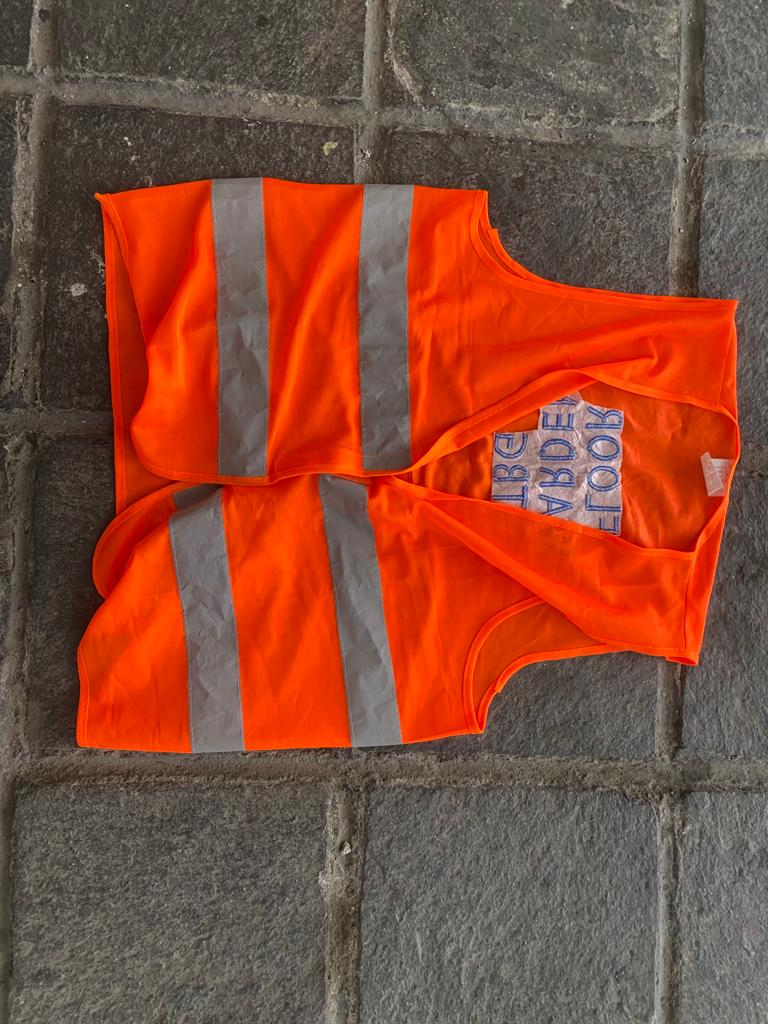ROMPI: (115, 247, 671, 697)
